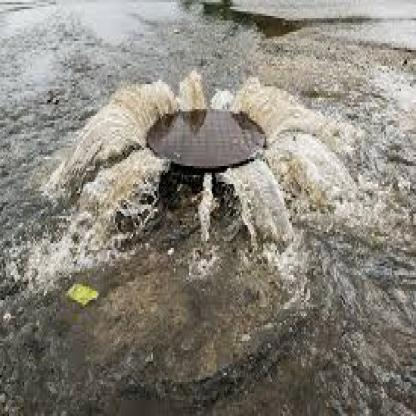drainage overflow-repair-: (43, 44, 352, 321)
